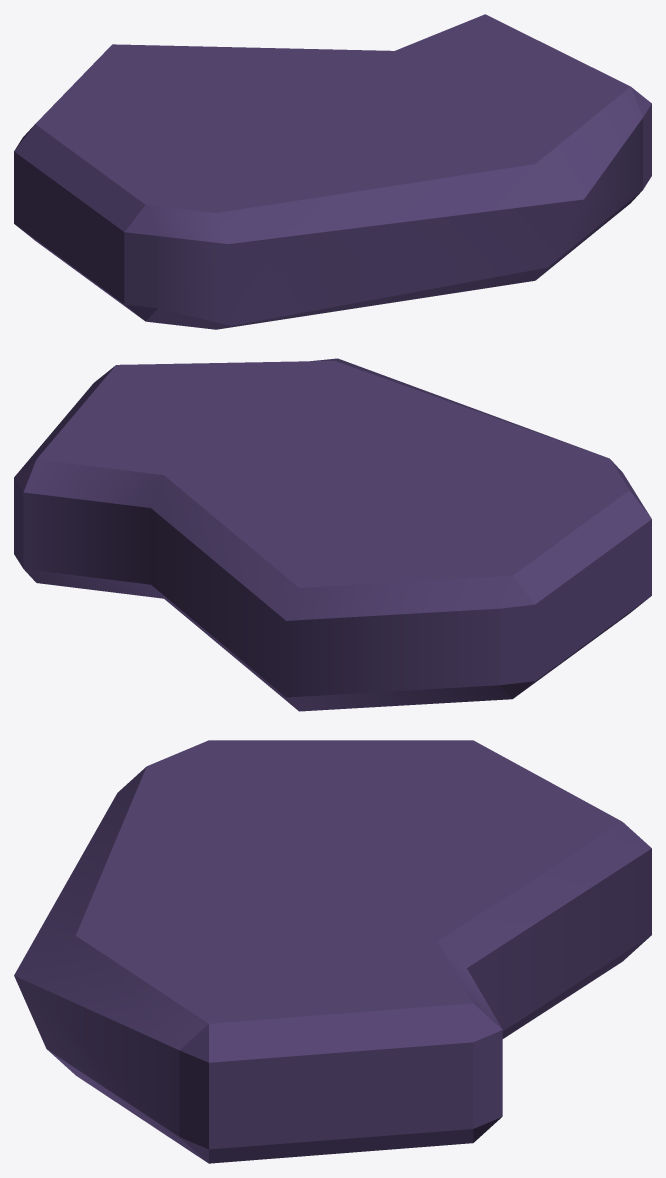
The model's file is BrokenTile.fbx.
3 views of the same model, one above another, from view 1: azimuth 30°, elevation 25°; view 2: azimuth 150°, elevation 25°; view 3: azimuth 270°, elevation 25° (orthographic). The views are drawn at different scales.
Parts seen in each view (by area): view 1: BrokenTile; view 2: BrokenTile; view 3: BrokenTile.
Boxes of the visible parts, <box> form: BrokenTile: <box>14,14,651,329</box>; BrokenTile: <box>14,358,651,711</box>; BrokenTile: <box>14,740,651,1163</box>.
Bounding box in the file's own units: 3.07 × 0.6492 × 2.68.
